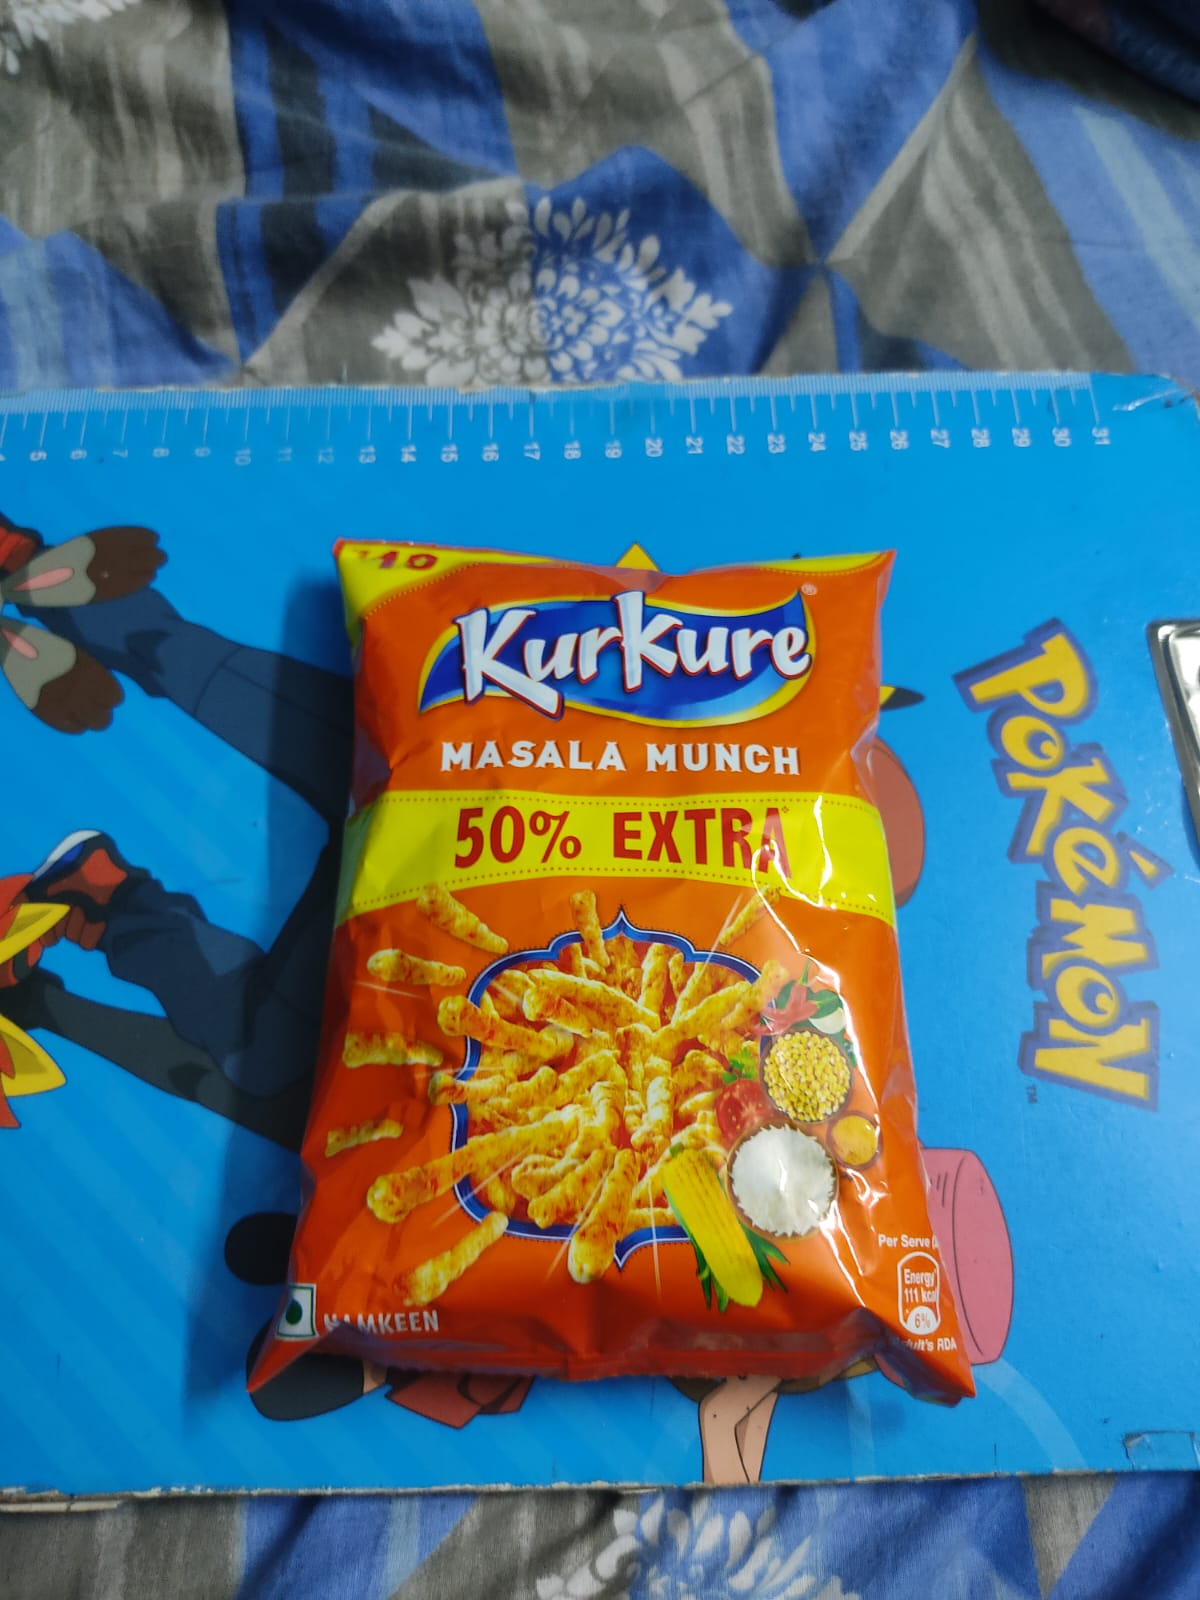010_Kurkure: (342, 551, 926, 1361)
